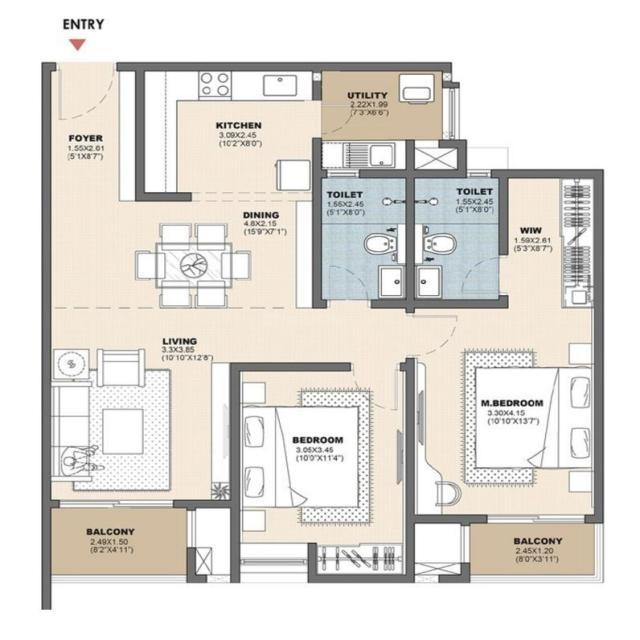Balcony-Sitout: (41, 508, 198, 580), (459, 521, 606, 584)
Bedroom: (230, 363, 414, 585)
Bedroom with Toilet: (406, 169, 605, 525)
Dining: (124, 217, 257, 312)
Enterance-Foyer: (42, 63, 143, 201)
Kitchen: (136, 62, 321, 203)
Living: (42, 363, 237, 509)
Toilet: (314, 170, 410, 314)
Utility: (312, 62, 465, 178)
